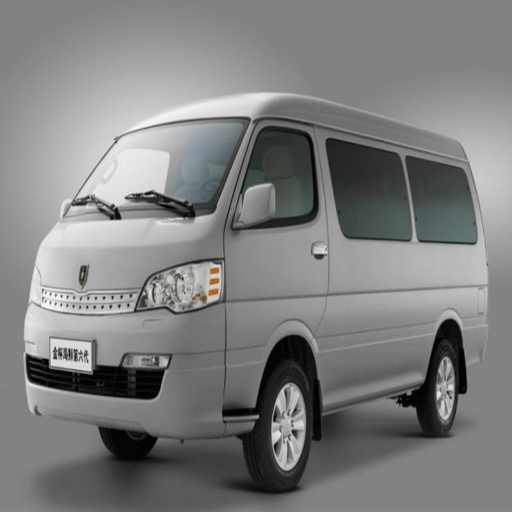front_bumper: (26, 287, 224, 435)
front_glass: (74, 121, 249, 218)
front_left_door: (226, 122, 329, 288)
trunk: (349, 265, 488, 369), (229, 324, 276, 409)
